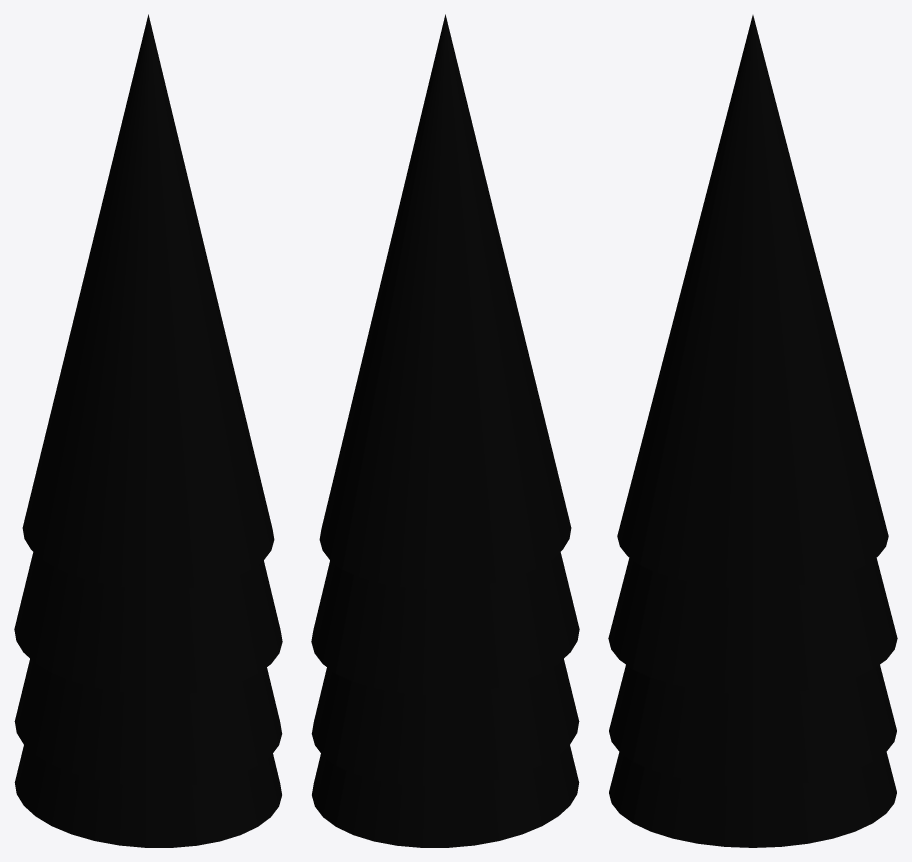
The model's file is kantuu.fbx.
3 renders of one model, left to right at view 1: azimuth 30°, elevation 25°; view 2: azimuth 150°, elevation 25°; view 3: azimuth 270°, elevation 25°, orthographic.
Visible parts, largest first — view 1: 円錐.005; view 2: 円錐.005; view 3: 円錐.005.
Part boxes in pixels (x1=…): 円錐.005: x1=14, y1=14, x2=282, y2=847; 円錐.005: x1=311, y1=14, x2=579, y2=847; 円錐.005: x1=608, y1=15, x2=897, y2=847.
Size of the model in its own units: 26.77 by 87.51 by 29.46.
